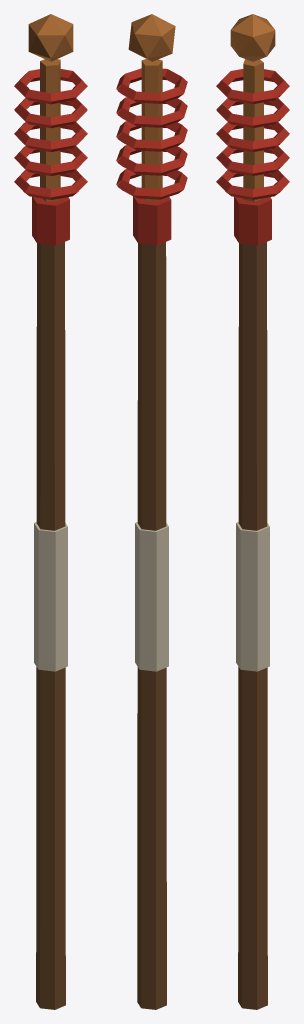
The model's file is weapon_staff.glb.
3 renders of one model, left to right at view 1: azimuth 90°, elevation 25°; view 2: azimuth 150°, elevation 25°; view 3: azimuth 270°, elevation 25°, orthographic.
Parts seen in each view (by area): view 1: gnome_weapon_staff; view 2: gnome_weapon_staff; view 3: gnome_weapon_staff.
Part boxes in pixels (bbox=[...]): gnome_weapon_staff: bbox=[14, 14, 87, 1009]; gnome_weapon_staff: bbox=[116, 14, 187, 1009]; gnome_weapon_staff: bbox=[216, 14, 289, 1009].
Bounding box in the file's own units: 0.1008 × 1.49 × 0.1008.
